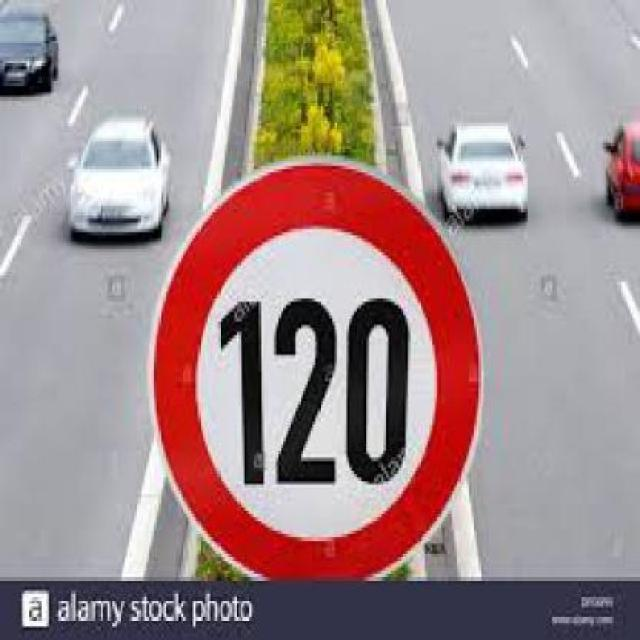forb_speed_over_120: (159, 165, 475, 578)
